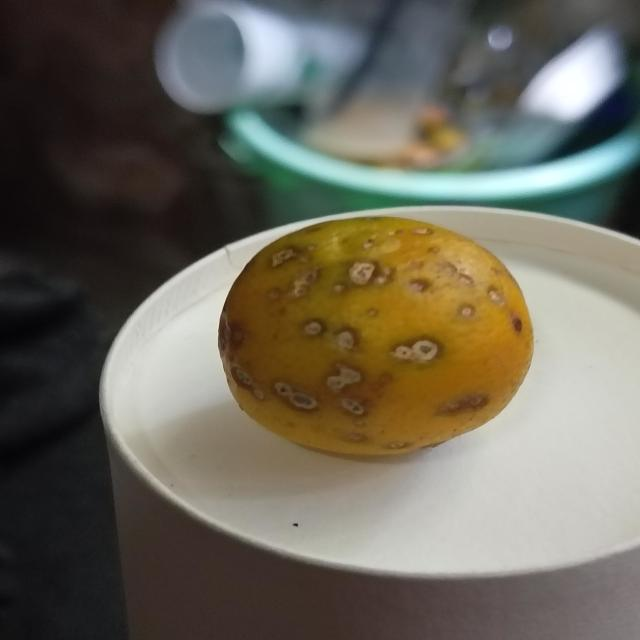black spot: (217, 216, 537, 458)
